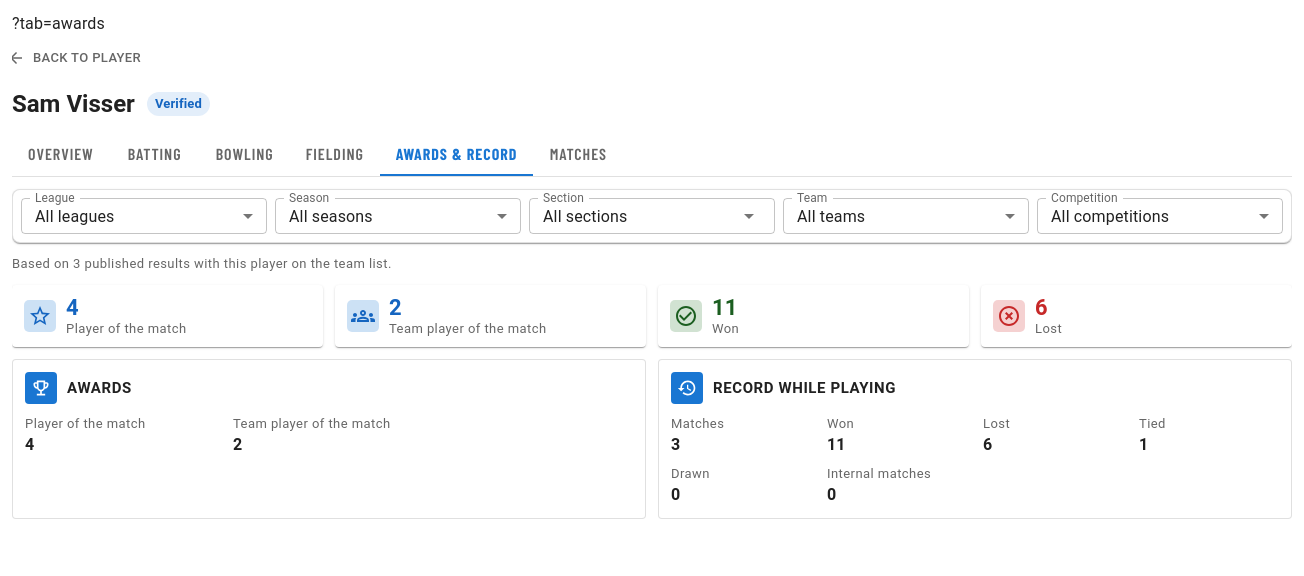
it: Matches tab › tab and request › clicking the tab writes ?tab=matches and loads the list
This screenshot has width=1304, height=576.
Click the tab "Matches" at [578, 154], box left=550, top=144, right=607, bottom=163
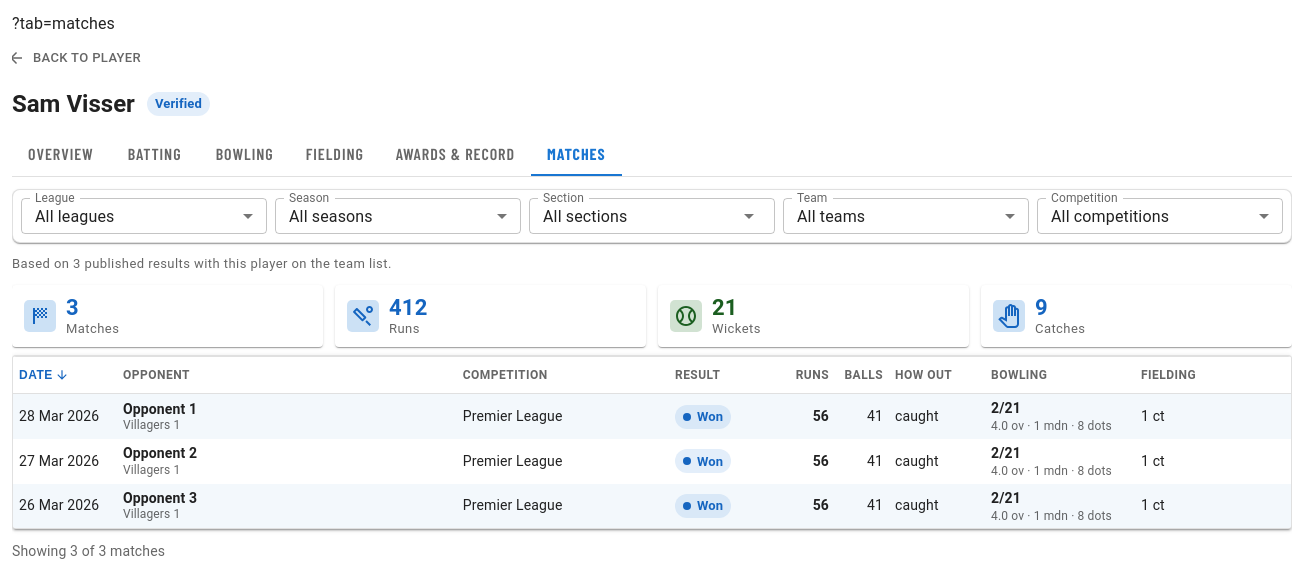
Expected: the number of rows with test id "match-row" is 3, left=13, top=394, right=1291, bottom=439; left=13, top=439, right=1291, bottom=484; left=13, top=484, right=1291, bottom=528
